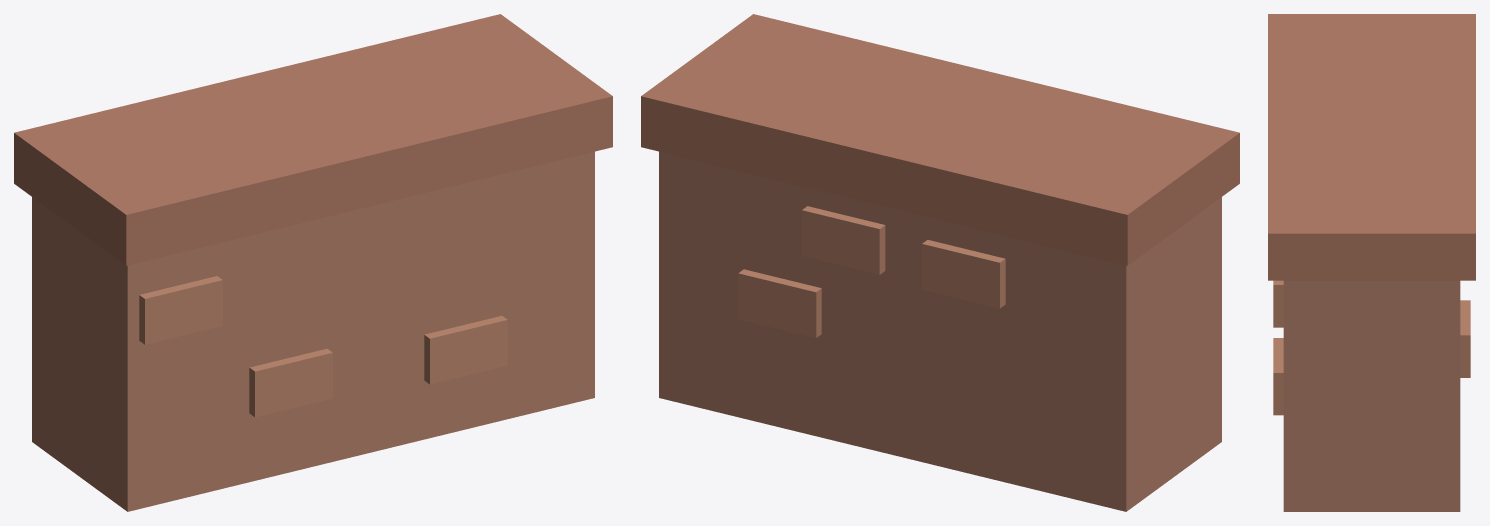
File: obstacle_wall.glb
3 views of the same model, side by side, from view 1: azimuth 30°, elevation 25°; view 2: azimuth 150°, elevation 25°; view 3: azimuth 270°, elevation 25° (orthographic). The views are drawn at different scales.
Parts seen in each view (by area): view 1: geometry_0; view 2: geometry_0; view 3: geometry_0.
Part boxes in pixels (x1,y1,x2,y2): geometry_0: (14, 14, 612, 511); geometry_0: (641, 14, 1239, 511); geometry_0: (1268, 14, 1475, 511).
Bounding box in the file's own units: 1 × 0.6 × 0.4.
